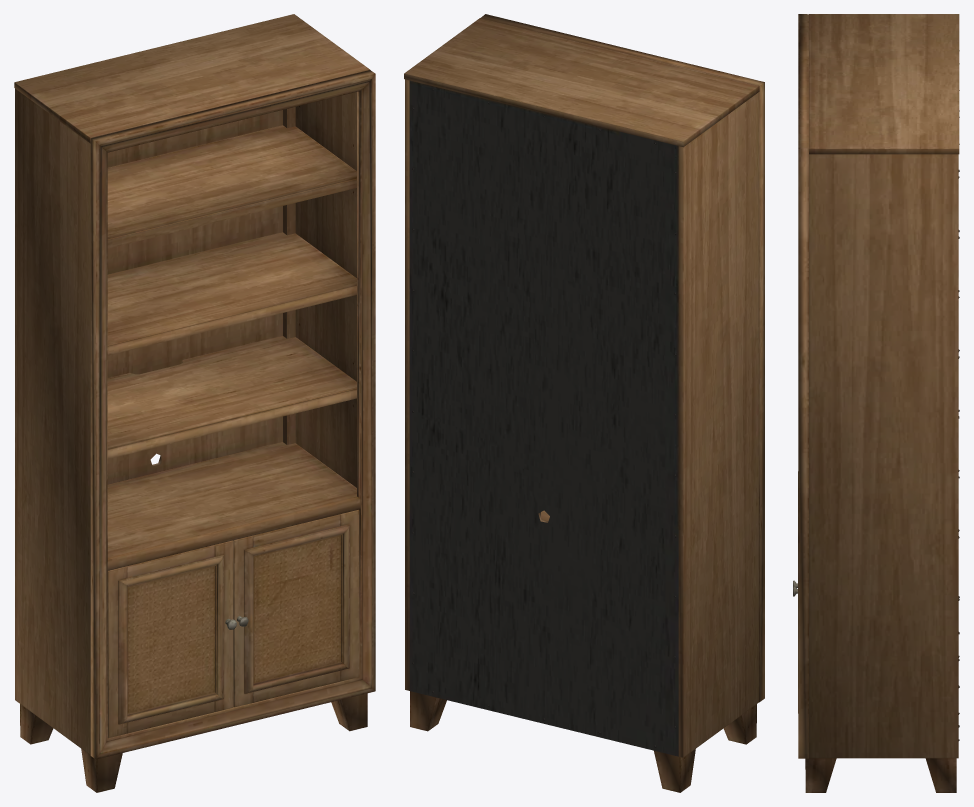
The model's file is abo-B07B7J2VCD.glb.
3 renders of one model, left to right at view 1: azimuth 30°, elevation 25°; view 2: azimuth 150°, elevation 25°; view 3: azimuth 270°, elevation 25°, orthographic.
Visible parts, largest first — view 1: RootNode; view 2: RootNode; view 3: RootNode.
Part boxes in pixels (left/top/right/bottom): RootNode: left=14, top=14, right=375, bottom=792; RootNode: left=404, top=14, right=764, bottom=792; RootNode: left=793, top=14, right=959, bottom=792.
Bounding box in the file's own units: 0.8632 × 1.93 × 0.451.
Materials: 1 (1 with a texture image).
